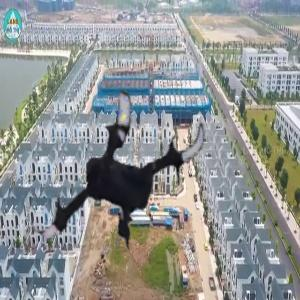drone: (15, 65, 218, 268)
